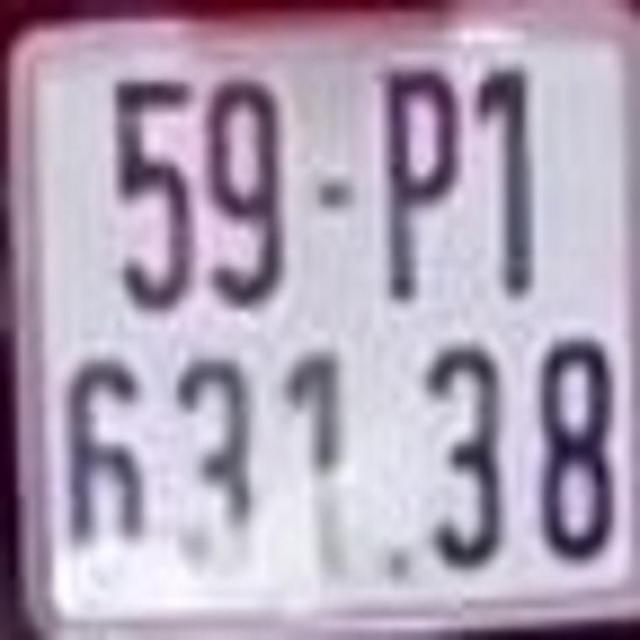1: (278, 346, 366, 589), (476, 63, 546, 296)
3: (422, 334, 512, 572), (174, 354, 253, 584)
5: (110, 74, 196, 309)
6: (60, 350, 148, 596)
8: (538, 339, 616, 556)
9: (205, 70, 286, 306)
P: (379, 64, 466, 306)
